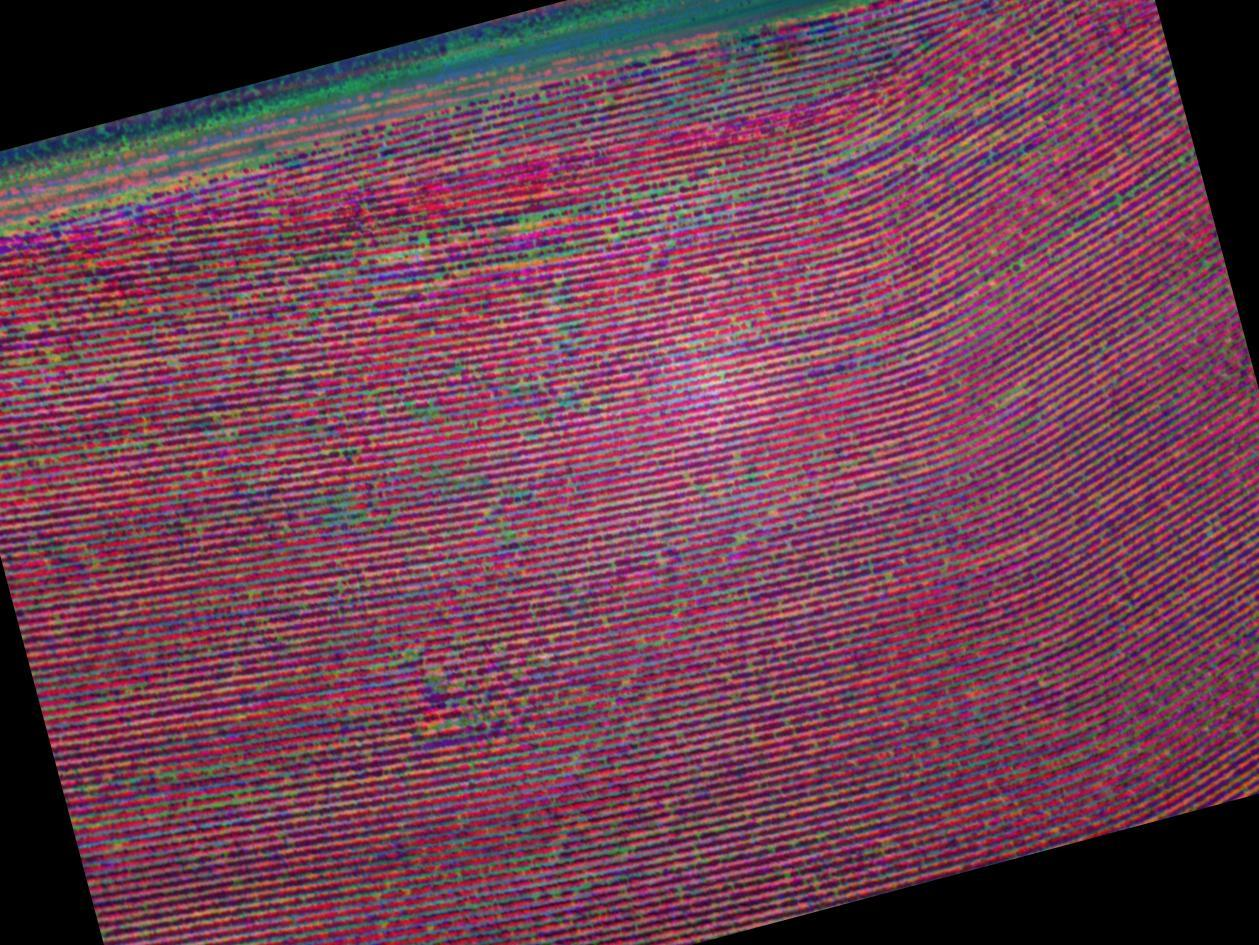dc: (507, 170, 709, 232), (321, 442, 437, 538), (350, 205, 459, 304)
